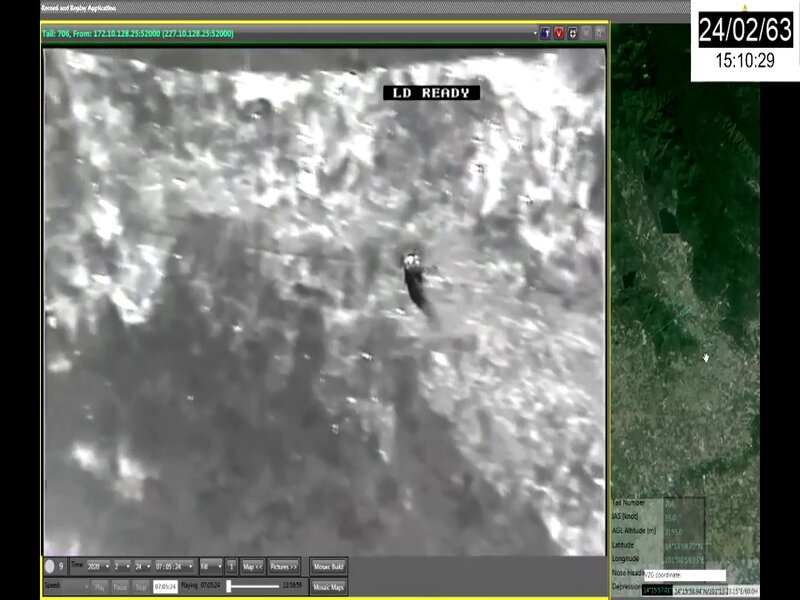Fire: (482, 53, 603, 282)
